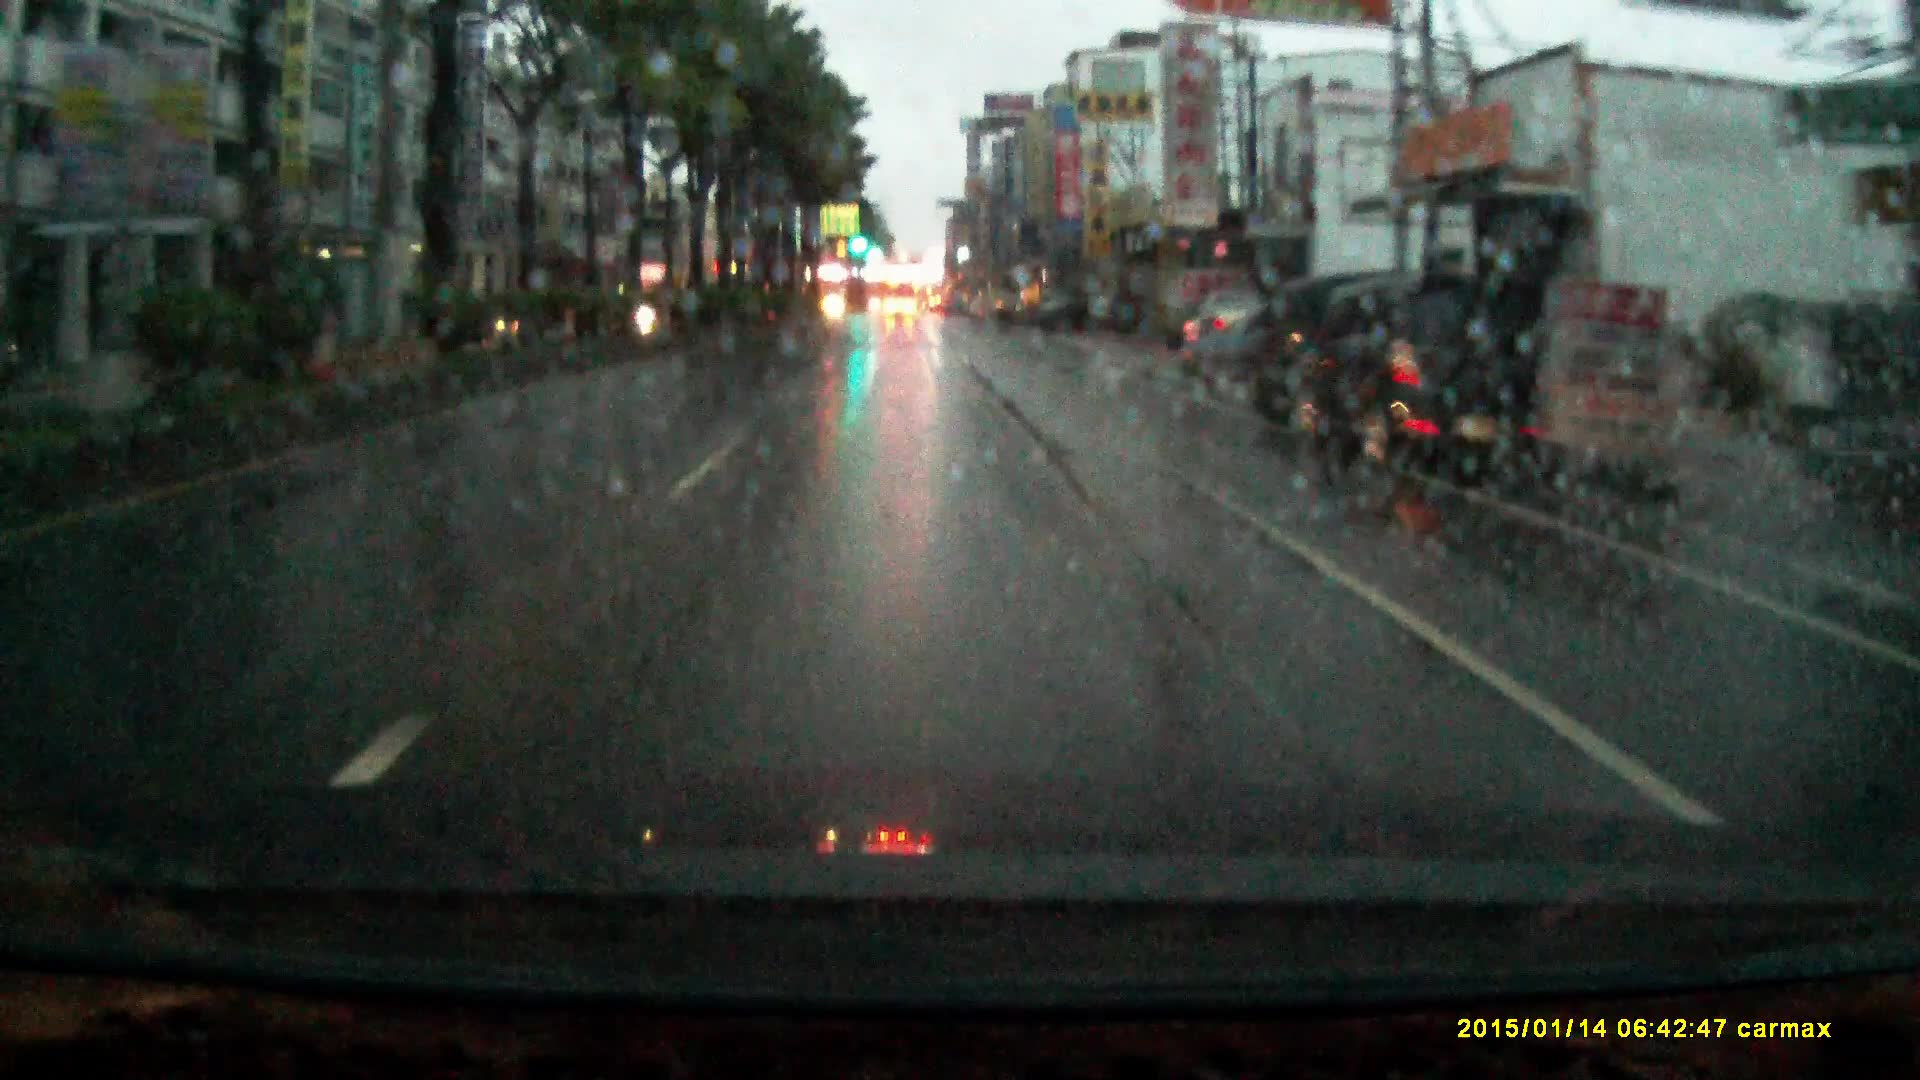vehicle: (1280, 266, 1565, 479), (1230, 264, 1406, 429), (1179, 297, 1271, 381), (976, 282, 1021, 323), (884, 293, 918, 318)
